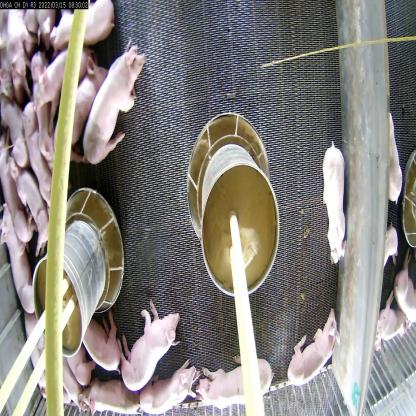Pig: (82, 46, 146, 168), (110, 294, 180, 390), (192, 354, 275, 416), (5, 144, 50, 250), (286, 306, 340, 393), (0, 201, 38, 321), (21, 99, 55, 212), (320, 138, 349, 270), (64, 57, 104, 152), (138, 356, 200, 416), (76, 315, 124, 385), (34, 47, 78, 115), (380, 292, 415, 361), (82, 380, 142, 416), (64, 341, 98, 396)
